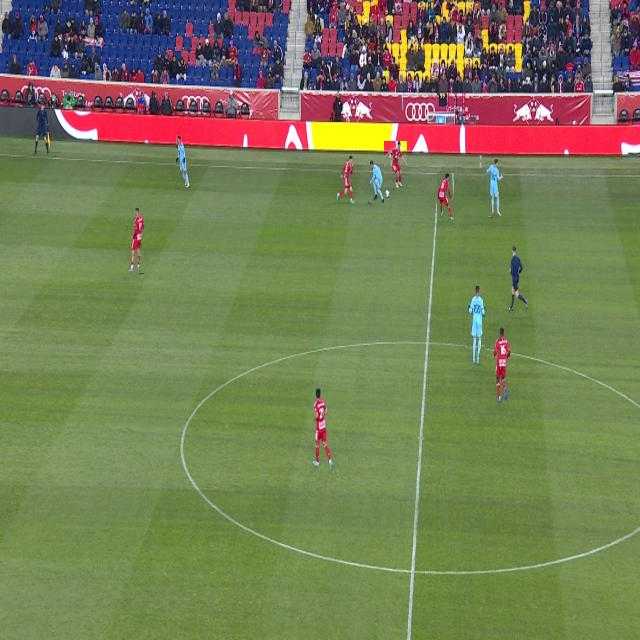football: (386, 189, 389, 198)
player: (312, 389, 333, 470), (493, 327, 511, 402), (469, 287, 485, 364), (384, 141, 407, 188), (128, 208, 144, 272), (487, 160, 503, 216), (337, 155, 355, 203), (438, 174, 454, 221), (176, 136, 190, 188), (369, 161, 384, 203)
referee: (508, 246, 528, 311)
